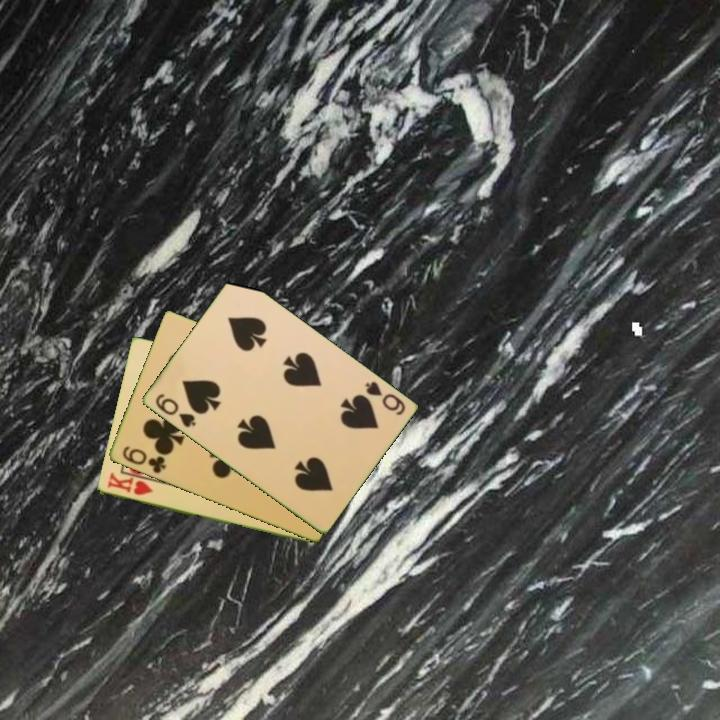6c: (119, 442, 169, 477)
6s: (151, 390, 198, 431), (361, 378, 408, 418)
Kh: (103, 470, 156, 499)
